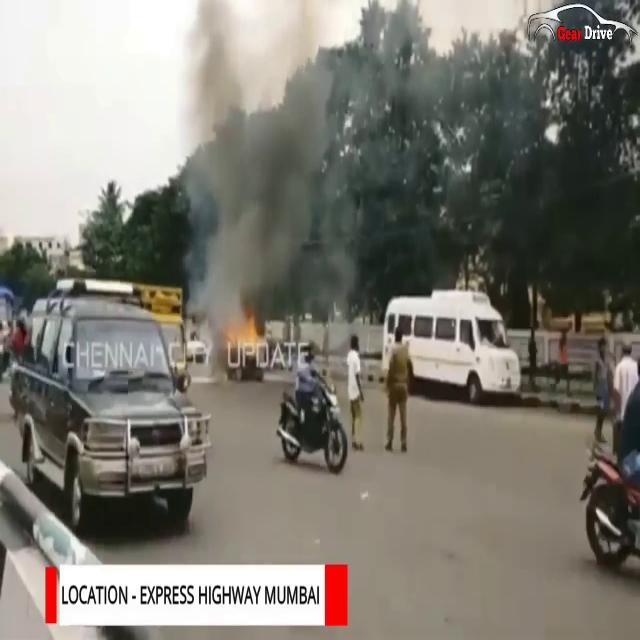Fire: (224, 310, 264, 357)
Smoke: (176, 0, 354, 327)
